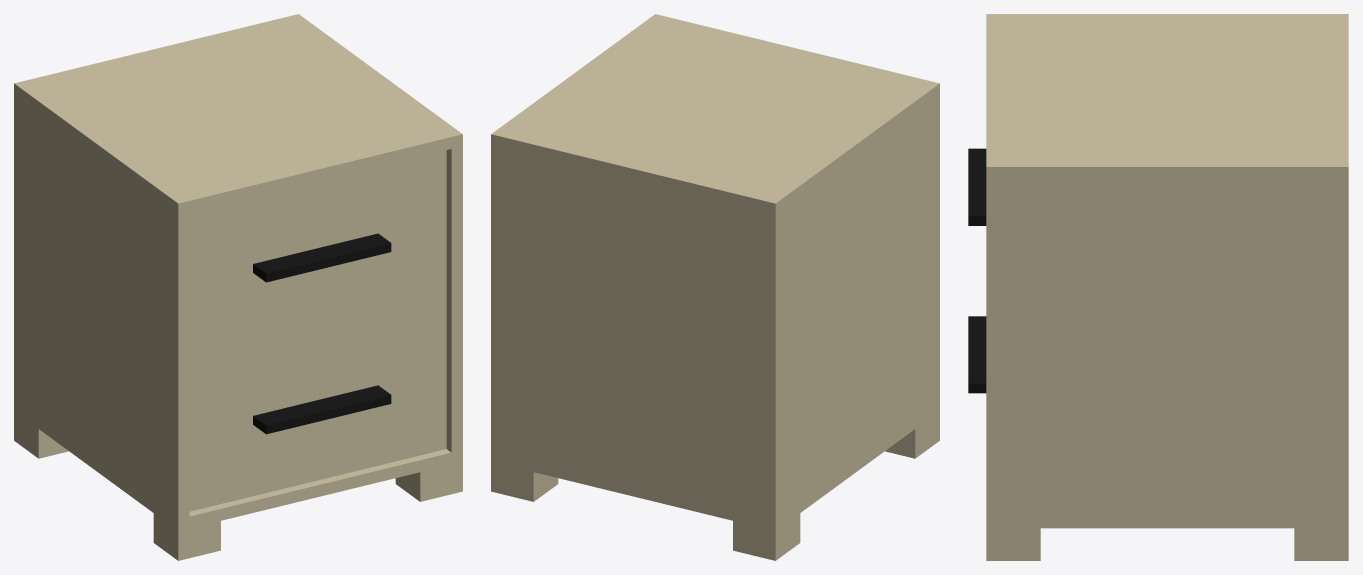
The model's file is drawer.fbx.
3 renders of one model, left to right at view 1: azimuth 30°, elevation 25°; view 2: azimuth 150°, elevation 25°; view 3: azimuth 270°, elevation 25°, orthographic. The views are drawn at different scales.
Visible parts, largest first — view 1: Cube; view 2: Cube; view 3: Cube.
Part boxes in pixels (bbox=[...]): Cube: bbox=[14, 14, 462, 560]; Cube: bbox=[491, 14, 939, 560]; Cube: bbox=[968, 14, 1348, 560].
Size of the model in its own units: 130 by 156 by 137.
